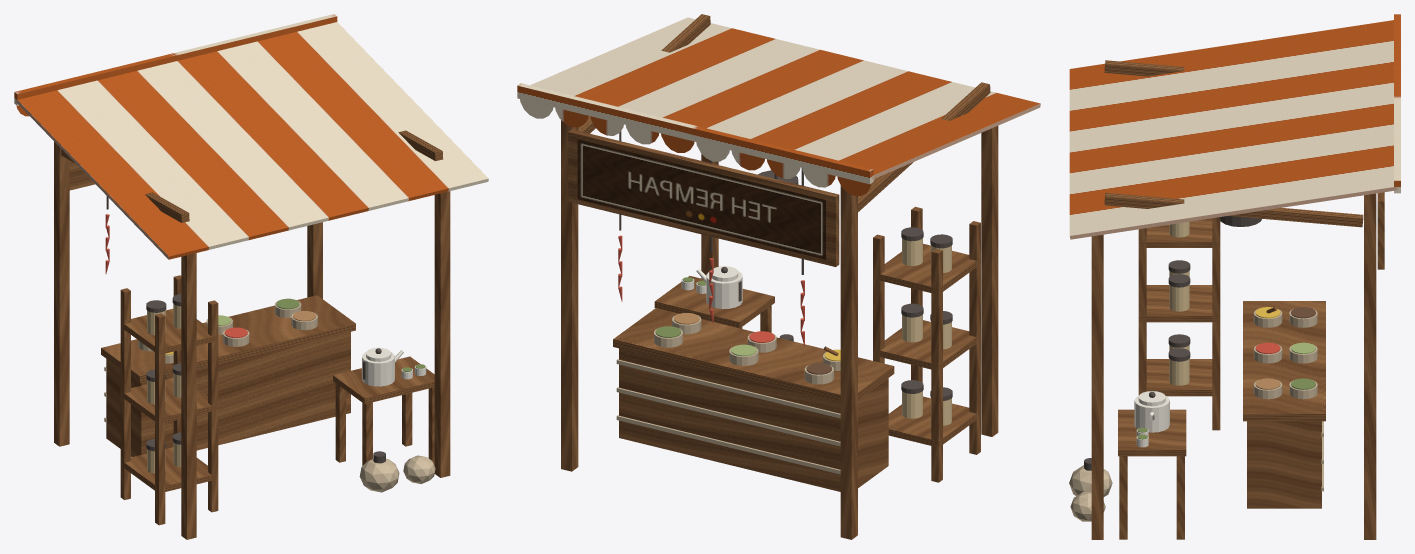
The model's file is teh-rempah-blender-v1.glb.
The picture shows the model from 3 angles, left to right: view 1: azimuth 30°, elevation 25°; view 2: azimuth 150°, elevation 25°; view 3: azimuth 270°, elevation 25°; orthographic projection. The views are drawn at different scales.
Visible parts, largest first — view 1: teh_stripe, teh_wood, teh_burlap, teh_cream, teh_jar, teh_dark; view 2: teh_wood, teh_stripe, teh_sign, teh_burlap, teh_jar, teh_dark, teh_cream, teh_chili; view 3: teh_stripe, teh_wood, teh_burlap, teh_dark, teh_cream, teh_jar.
Part boxes in pixels (x1,y1,x2,y2): teh_stripe: [14, 14, 488, 259]; teh_wood: [54, 130, 450, 539]; teh_burlap: [104, 300, 435, 492]; teh_cream: [362, 347, 426, 386]; teh_jar: [147, 304, 181, 473]; teh_dark: [106, 196, 385, 463]; teh_wood: [561, 14, 998, 539]; teh_stripe: [517, 17, 1040, 195]; teh_sign: [577, 139, 825, 259]; teh_burlap: [616, 315, 840, 474]; teh_jar: [902, 238, 951, 425]; teh_dark: [619, 131, 952, 400]; teh_cream: [681, 266, 742, 308]; teh_chili: [618, 235, 804, 346]; teh_stripe: [1069, 14, 1400, 239]; teh_wood: [1091, 60, 1384, 539]; teh_burlap: [1069, 308, 1323, 521]; teh_dark: [1084, 216, 1261, 470]; teh_cream: [1134, 391, 1169, 447]; teh_jar: [1169, 221, 1189, 385].
Size of the model in its own units: 2.9 by 3.02 by 2.43.
14 materials, 3 textured.
